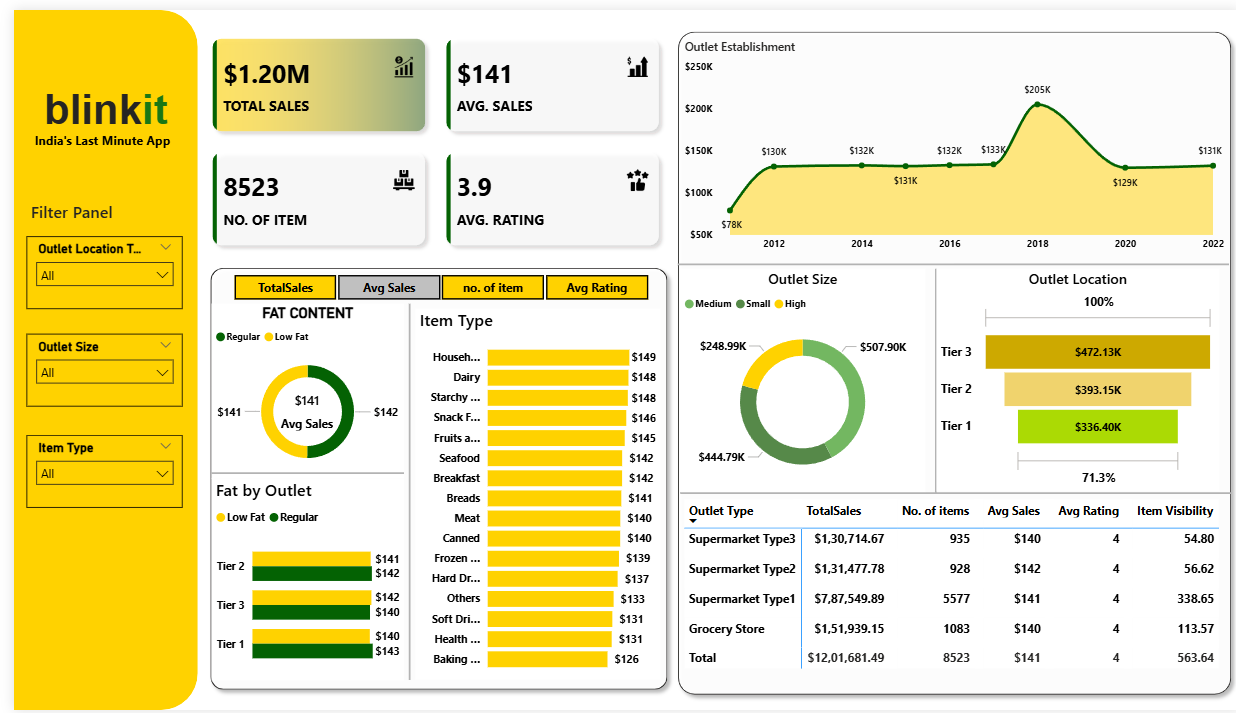

This screenshot's page, from the dashboard's own definition file:
{"tool":"powerbi","page":{"name":"Page 1","canvas":[1400,800],"ordinal":0},"visuals":[{"type":"shape","box":[0,0,210,800],"z":0},{"type":"textbox","box":[0,81.4,210,77.1],"z":1000},{"type":"textbox","box":[18.6,134.3,172.9,34.3],"z":2000},{"type":"cardVisual","fields":{"Data":["Blinkit Grocery Data.TotalSales","Blinkit Grocery Data.Avg Sales","Blinkit Grocery Data.no. of item","Blinkit Grocery Data.Avg Rating"]},"box":[210,15.7,545.7,270],"z":3000},{"type":"shape","box":[215.7,285.7,540,500],"z":4000},{"type":"donutChart","title":"FAT CONTENT","fields":{"Y":["Blinkit Grocery Data.Avg Rating"],"Category":["Blinkit Grocery Data.Item Fat Content"]},"box":[225.7,335.7,220,200],"z":5000},{"type":"slicer","fields":{"Values":["Matrices.Matrices"]},"box":[225.7,295.7,522.9,40],"z":6000},{"type":"cardVisual","fields":{"Data":["Blinkit Grocery Data.Avg Rating"]},"box":[275.7,418.6,118.6,67.1],"z":7000},{"type":"clusteredBarChart","title":"Fat by Outlet","fields":{"Y":["Blinkit Grocery Data.Avg Rating"],"Category":["Blinkit Grocery Data.Outlet Location Type"],"Series":["Blinkit Grocery Data.Item Fat Content"]},"box":[225.7,535.7,220,230],"z":8000},{"type":"shape","box":[225.7,522.9,220,12.9],"z":9000},{"type":"shape","box":[445.7,335.7,12.9,430],"z":10000},{"type":"barChart","title":"Item Type","fields":{"Y":["Blinkit Grocery Data.Avg Rating"],"Category":["Blinkit Grocery Data.Item Type"]},"box":[458.6,341.4,280,424.3],"z":11000},{"type":"shape","box":[750,15.7,650,775.7],"z":12000},{"type":"lineChart","title":"Outlet Establishment ","fields":{"Category":["Blinkit Grocery Data.Outlet Establishment Year"],"Y":["Blinkit Grocery Data.TotalSales"]},"box":[761.4,32.9,627.1,251.4],"z":13000},{"type":"shape","box":[758.6,284.3,630,12.9],"z":14000},{"type":"donutChart","title":"Outlet Size","fields":{"Y":["Blinkit Grocery Data.TotalSales"],"Category":["Blinkit Grocery Data.Outlet Size"]},"box":[761.4,295.7,280,255.7],"z":15000},{"type":"shape","box":[1047.1,295.7,12.9,257.1],"z":16000},{"type":"funnel","title":" Outlet Location ","fields":{"Y":["Blinkit Grocery Data.TotalSales"],"Category":["Blinkit Grocery Data.Outlet Location Type"]},"box":[1054.3,295.7,322.9,254.3],"z":17000},{"type":"shape","box":[761.4,545.7,630,12.9],"z":18000},{"type":"pivotTable","fields":{"Rows":["Blinkit Grocery Data.Outlet Type"],"Values":["Blinkit Grocery Data.TotalSales","Blinkit Grocery Data.No. of items","Blinkit Grocery Data.Avg Sales","Blinkit Grocery Data.Avg Rating","Sum(Blinkit Grocery Data.Item Visibility)"]},"box":[761.4,554.3,627.1,211.4],"z":19000},{"type":"slicer","fields":{"Values":["Blinkit Grocery Data.Outlet Size"]},"box":[14.3,370,178.6,82.9],"z":20000},{"type":"slicer","fields":{"Values":["Blinkit Grocery Data.Item Type"]},"box":[14.3,485.7,178.6,82.9],"z":21000},{"type":"slicer","fields":{"Values":["Blinkit Grocery Data.Outlet Location Type"]},"box":[14.3,258.6,178.6,82.9],"z":22000},{"type":"textbox","box":[14.3,212.9,125.7,35.7],"z":22001}]}

Visuals, with their boxes in screenshot pixels (x1, y1, x2, y2), scaled from the page's 1400x800 canvas onto the 1236x713 screenshot:
shape: l=0, t=0, r=185, b=712
textbox: l=0, t=73, r=185, b=141
textbox: l=16, t=120, r=169, b=150
cardVisual - Blinkit Grocery Data.TotalSales x Blinkit Grocery Data.Avg Sales: l=185, t=14, r=667, b=255
shape: l=190, t=255, r=667, b=700
"FAT CONTENT" donutChart: l=199, t=299, r=393, b=477
slicer - Matrices.Matrices: l=199, t=264, r=661, b=299
cardVisual - Blinkit Grocery Data.Avg Rating: l=243, t=373, r=348, b=433
"Fat by Outlet" clusteredBarChart: l=199, t=477, r=393, b=682
shape: l=199, t=466, r=393, b=478
shape: l=393, t=299, r=405, b=682
"Item Type" barChart: l=405, t=304, r=652, b=682
shape: l=662, t=14, r=1235, b=705
"Outlet Establishment " lineChart: l=672, t=29, r=1226, b=253
shape: l=670, t=253, r=1226, b=265
"Outlet Size" donutChart: l=672, t=264, r=919, b=491
shape: l=924, t=264, r=936, b=493
" Outlet Location " funnel: l=931, t=264, r=1216, b=490
shape: l=672, t=486, r=1228, b=498
pivotTable - Blinkit Grocery Data.Outlet Type x Blinkit Grocery Data.TotalSales: l=672, t=494, r=1226, b=682
slicer - Blinkit Grocery Data.Outlet Size: l=13, t=330, r=170, b=404
slicer - Blinkit Grocery Data.Item Type: l=13, t=433, r=170, b=507
slicer - Blinkit Grocery Data.Outlet Location Type: l=13, t=230, r=170, b=304
textbox: l=13, t=190, r=124, b=222
